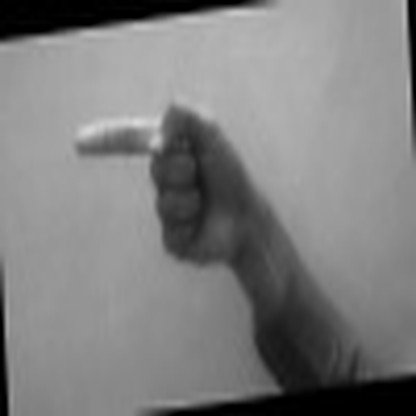g: (67, 97, 276, 279)
